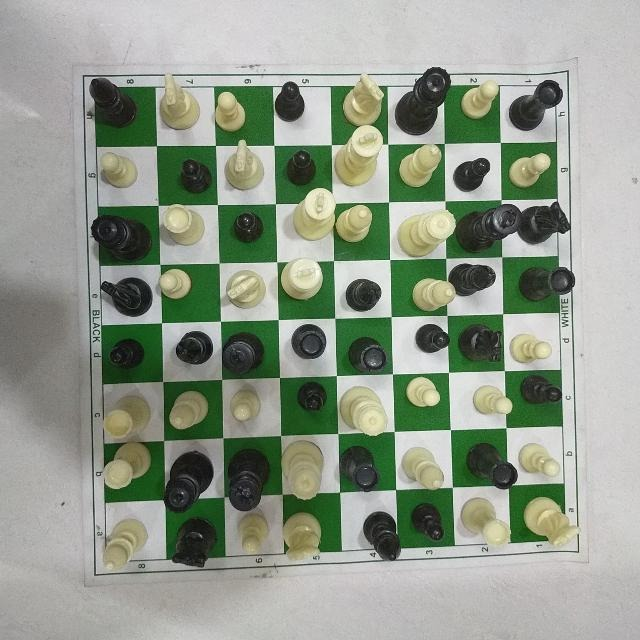black-bishop: (73, 72, 143, 133), (351, 499, 408, 567), (444, 255, 500, 307), (167, 320, 220, 374), (338, 273, 394, 322)
black-king: (220, 438, 285, 519), (451, 190, 531, 254), (221, 329, 274, 383)
black-knight: (90, 263, 162, 321), (163, 511, 223, 577), (510, 196, 576, 248), (446, 316, 512, 368)
black-pawn: (265, 72, 318, 130), (225, 205, 279, 252), (170, 152, 218, 204), (517, 369, 564, 416), (404, 497, 451, 544), (99, 334, 150, 376), (449, 151, 496, 194), (292, 374, 332, 422), (410, 323, 458, 357), (282, 141, 316, 188)
black-queen: (390, 57, 458, 141), (158, 444, 224, 520), (85, 205, 157, 263)
black-rook: (507, 73, 570, 139), (459, 433, 523, 495), (333, 438, 388, 500), (518, 259, 584, 309), (340, 327, 394, 381), (290, 317, 334, 368)
white-bishop: (91, 511, 156, 586), (395, 137, 451, 191), (164, 382, 212, 440), (398, 441, 450, 493), (402, 272, 462, 312), (334, 192, 378, 246)
white-king: (328, 118, 391, 189), (287, 182, 342, 245), (278, 256, 333, 308)
white-knight: (517, 484, 581, 551), (216, 137, 276, 198), (151, 64, 203, 134), (333, 63, 386, 131), (278, 506, 330, 570), (222, 263, 269, 314)
white-pawn: (93, 141, 146, 196), (453, 77, 503, 131), (205, 84, 256, 136), (512, 435, 565, 483), (503, 145, 563, 187), (226, 382, 274, 432), (151, 260, 200, 308), (504, 326, 557, 370), (468, 377, 521, 421), (232, 509, 273, 559), (403, 365, 442, 412)
white-queen: (389, 200, 460, 261), (276, 428, 330, 506), (334, 375, 395, 439)
white-rook: (98, 434, 161, 498), (457, 486, 514, 552), (93, 387, 153, 441), (158, 201, 208, 253)
